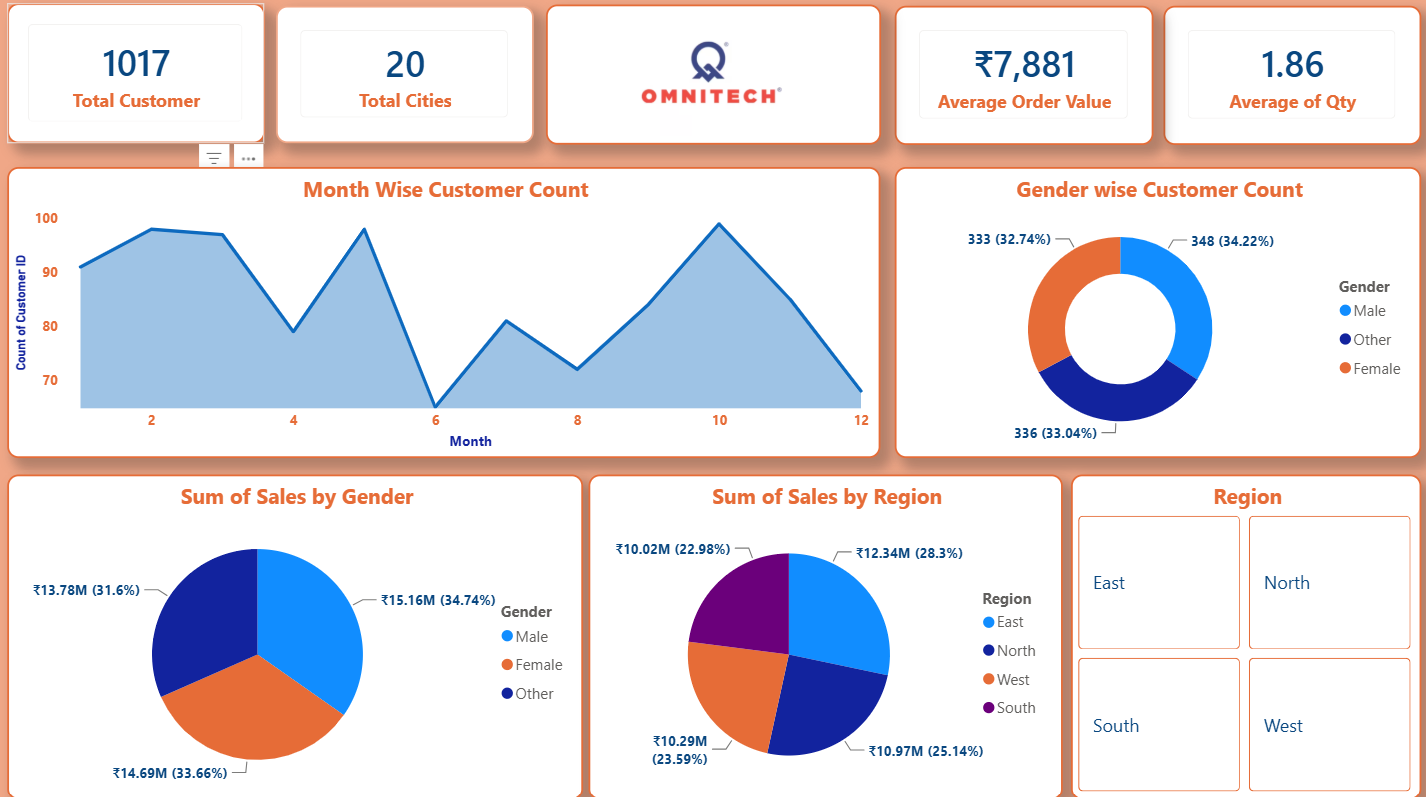

The dashboard page shown, as its layout file describes it:
{"tool":"powerbi","page":{"name":"Customer Demographic","canvas":[1280,720],"ordinal":0},"visuals":[{"type":"cardVisual","fields":{"Data":["Count(Customers.Customer ID)"]},"box":[9.8,9.8,229.4,125.2],"z":0},{"type":"cardVisual","fields":{"Data":["Count(Customers.City)"]},"box":[249.1,12.3,229.4,122.7],"z":1000},{"type":"cardVisual","fields":{"Data":["Avg(Sales_Transactions.Qty)"]},"box":[1039.3,12.3,229.4,123.9],"z":2000},{"type":"cardVisual","fields":{"Data":["Avg(Sales_Transactions.Sales)"]},"box":[800,12.3,230.7,123.9],"z":3000},{"type":"lineChart","title":"Month Wise Customer Count","fields":{"Y":["Count(Customers.Customer ID)"],"Category":["Date_table.Month"]},"box":[9.8,155.8,777.9,258.9],"z":4000},{"type":"donutChart","title":"Gender wise Customer Count","fields":{"Category":["Customers.Gender"],"Y":["CountNonNull(Customers.Customer ID)"]},"box":[800,155.8,468.7,258.9],"z":5000},{"type":"pieChart","fields":{"Category":["Customers.Gender"],"Y":["Sum(Sales_Transactions.Sales)"]},"box":[9.8,429.5,512.9,290.8],"z":6000},{"type":"pieChart","fields":{"Category":["Customers.Region"],"Y":["Sum(Sales_Transactions.Sales)"]},"box":[527.6,429.2,422.1,290.8],"z":7000},{"type":"advancedSlicerVisual","fields":{"Values":["Customers.Region"]},"box":[957.1,429.5,311.7,290.8],"z":8000},{"type":"image","box":[489.6,11,298.2,125.2],"z":9000}]}

Visuals, with their boxes in screenshot pixels (x1, y1, x2, y2), scaled from the page's 1280x720 canvas onto the 1426x797 screenshot:
cardVisual - Count(Customers.Customer ID): box(11, 11, 266, 149)
cardVisual - Count(Customers.City): box(278, 14, 533, 149)
cardVisual - Avg(Sales_Transactions.Qty): box(1158, 14, 1413, 151)
cardVisual - Avg(Sales_Transactions.Sales): box(891, 14, 1148, 151)
"Month Wise Customer Count" lineChart: box(11, 172, 878, 459)
"Gender wise Customer Count" donutChart: box(891, 172, 1413, 459)
pieChart - Customers.Gender x Sum(Sales_Transactions.Sales): box(11, 475, 582, 796)
pieChart - Customers.Region x Sum(Sales_Transactions.Sales): box(588, 475, 1058, 796)
advancedSlicerVisual - Customers.Region: box(1066, 475, 1414, 796)
image: box(545, 12, 878, 151)
